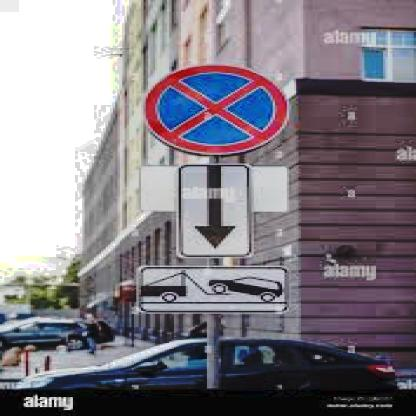No stopping: (132, 60, 300, 158)
